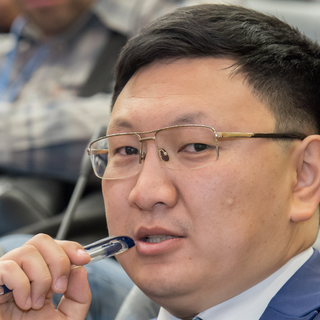eye: (175, 135, 221, 160), (108, 140, 148, 165)
